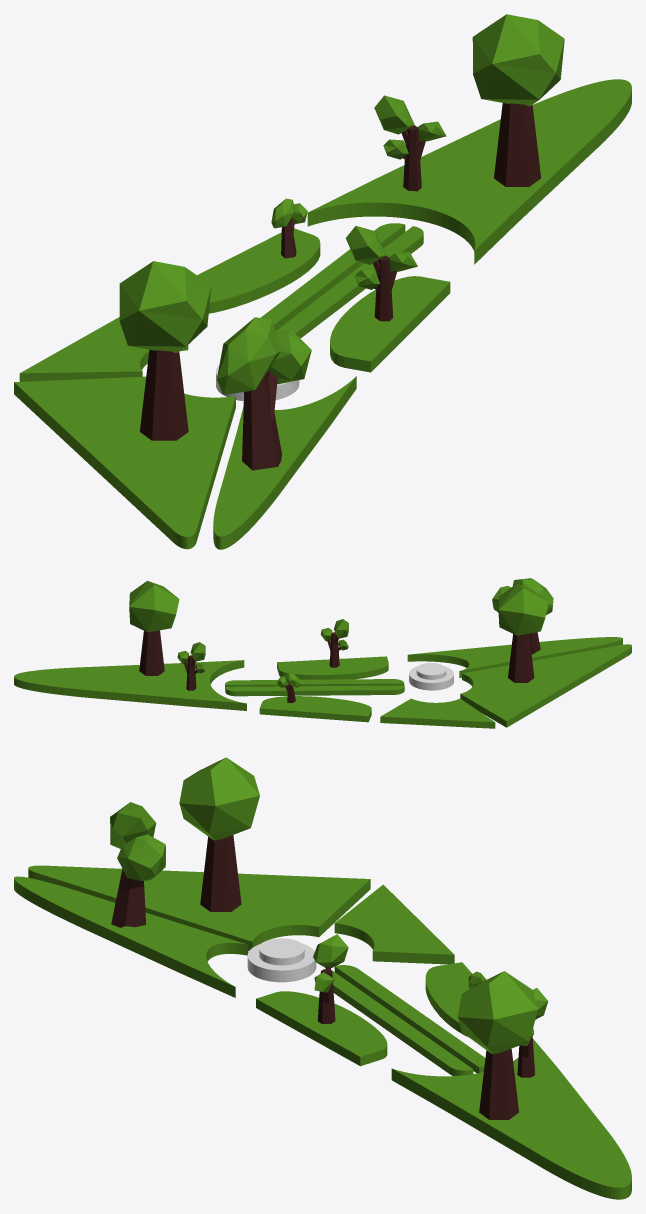
File: trianglefield.gltf
3 renders of one model, top to bottom at view 1: azimuth 30°, elevation 25°; view 2: azimuth 150°, elevation 25°; view 3: azimuth 270°, elevation 25°, orthographic. The views are drawn at different scales.
Visible parts, largest first — view 1: Plane.017, Икосфера.009, Цилиндр.014; view 2: Plane.017, Икосфера.009, Цилиндр.014, Cylinder.005; view 3: Plane.017, Икосфера.009, Цилиндр.014, Cylinder.005.
Boxes of the visible parts, box(x1,y1,x2,y2) form: Plane.017: box(14, 79, 631, 549); Икосфера.009: box(119, 14, 564, 394); Цилиндр.014: box(139, 103, 540, 470); Plane.017: box(14, 637, 631, 728); Икосфера.009: box(129, 578, 553, 687); Цилиндр.014: box(139, 630, 540, 702); Cylinder.005: box(409, 663, 453, 690); Plane.017: box(14, 865, 631, 1199); Икосфера.009: box(110, 757, 548, 1054); Цилиндр.014: box(111, 835, 535, 1119); Cylinder.005: box(247, 938, 316, 982).
Bounding box in the file's own units: 4.31 × 0.9478 × 3.43.
